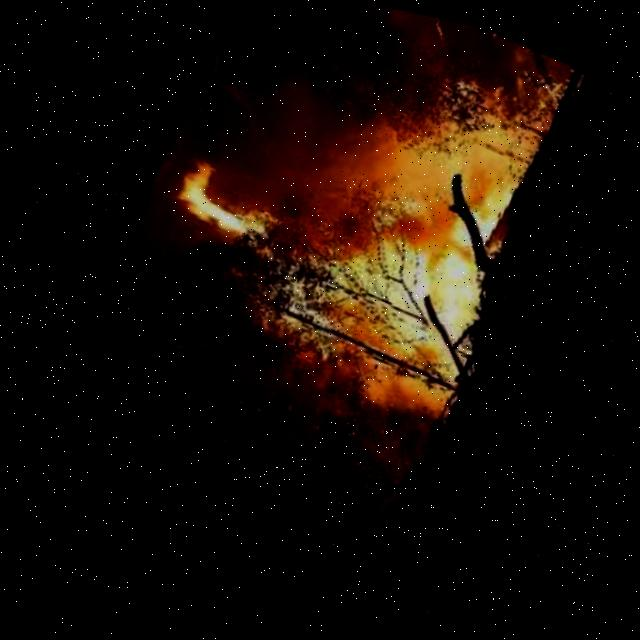fire: (263, 40, 580, 451), (157, 143, 268, 241)
